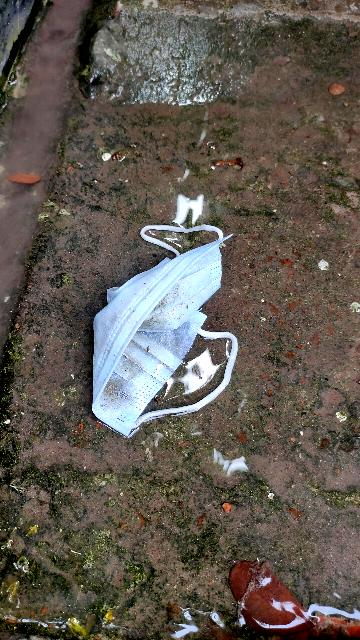mask: (74, 188, 266, 456)
